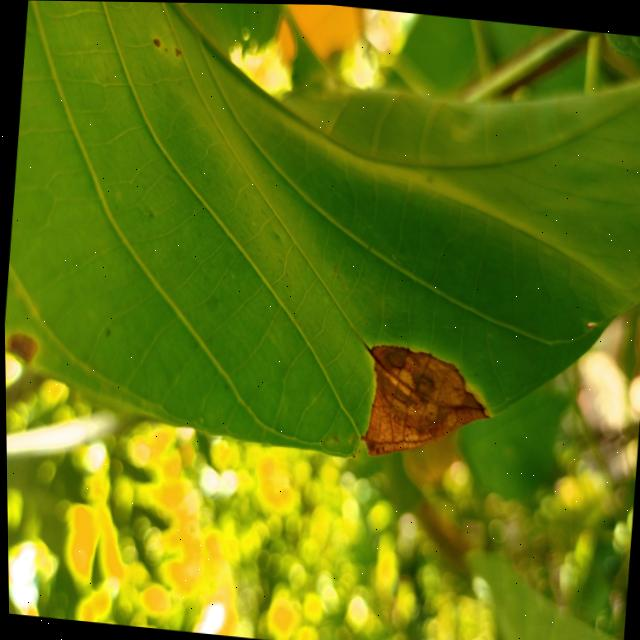Leaf-Blight: (355, 341, 492, 467)
